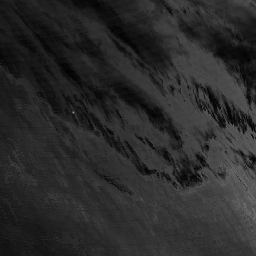Target: (71, 110, 75, 115)
